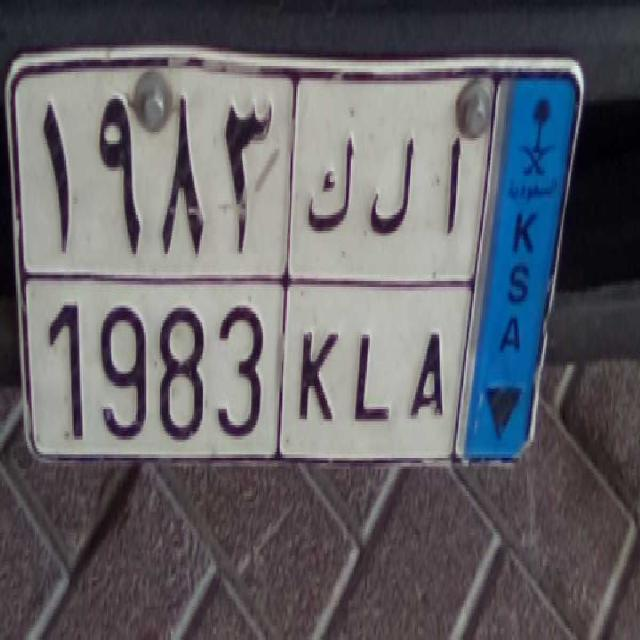license_plate: (21, 269, 458, 462)
